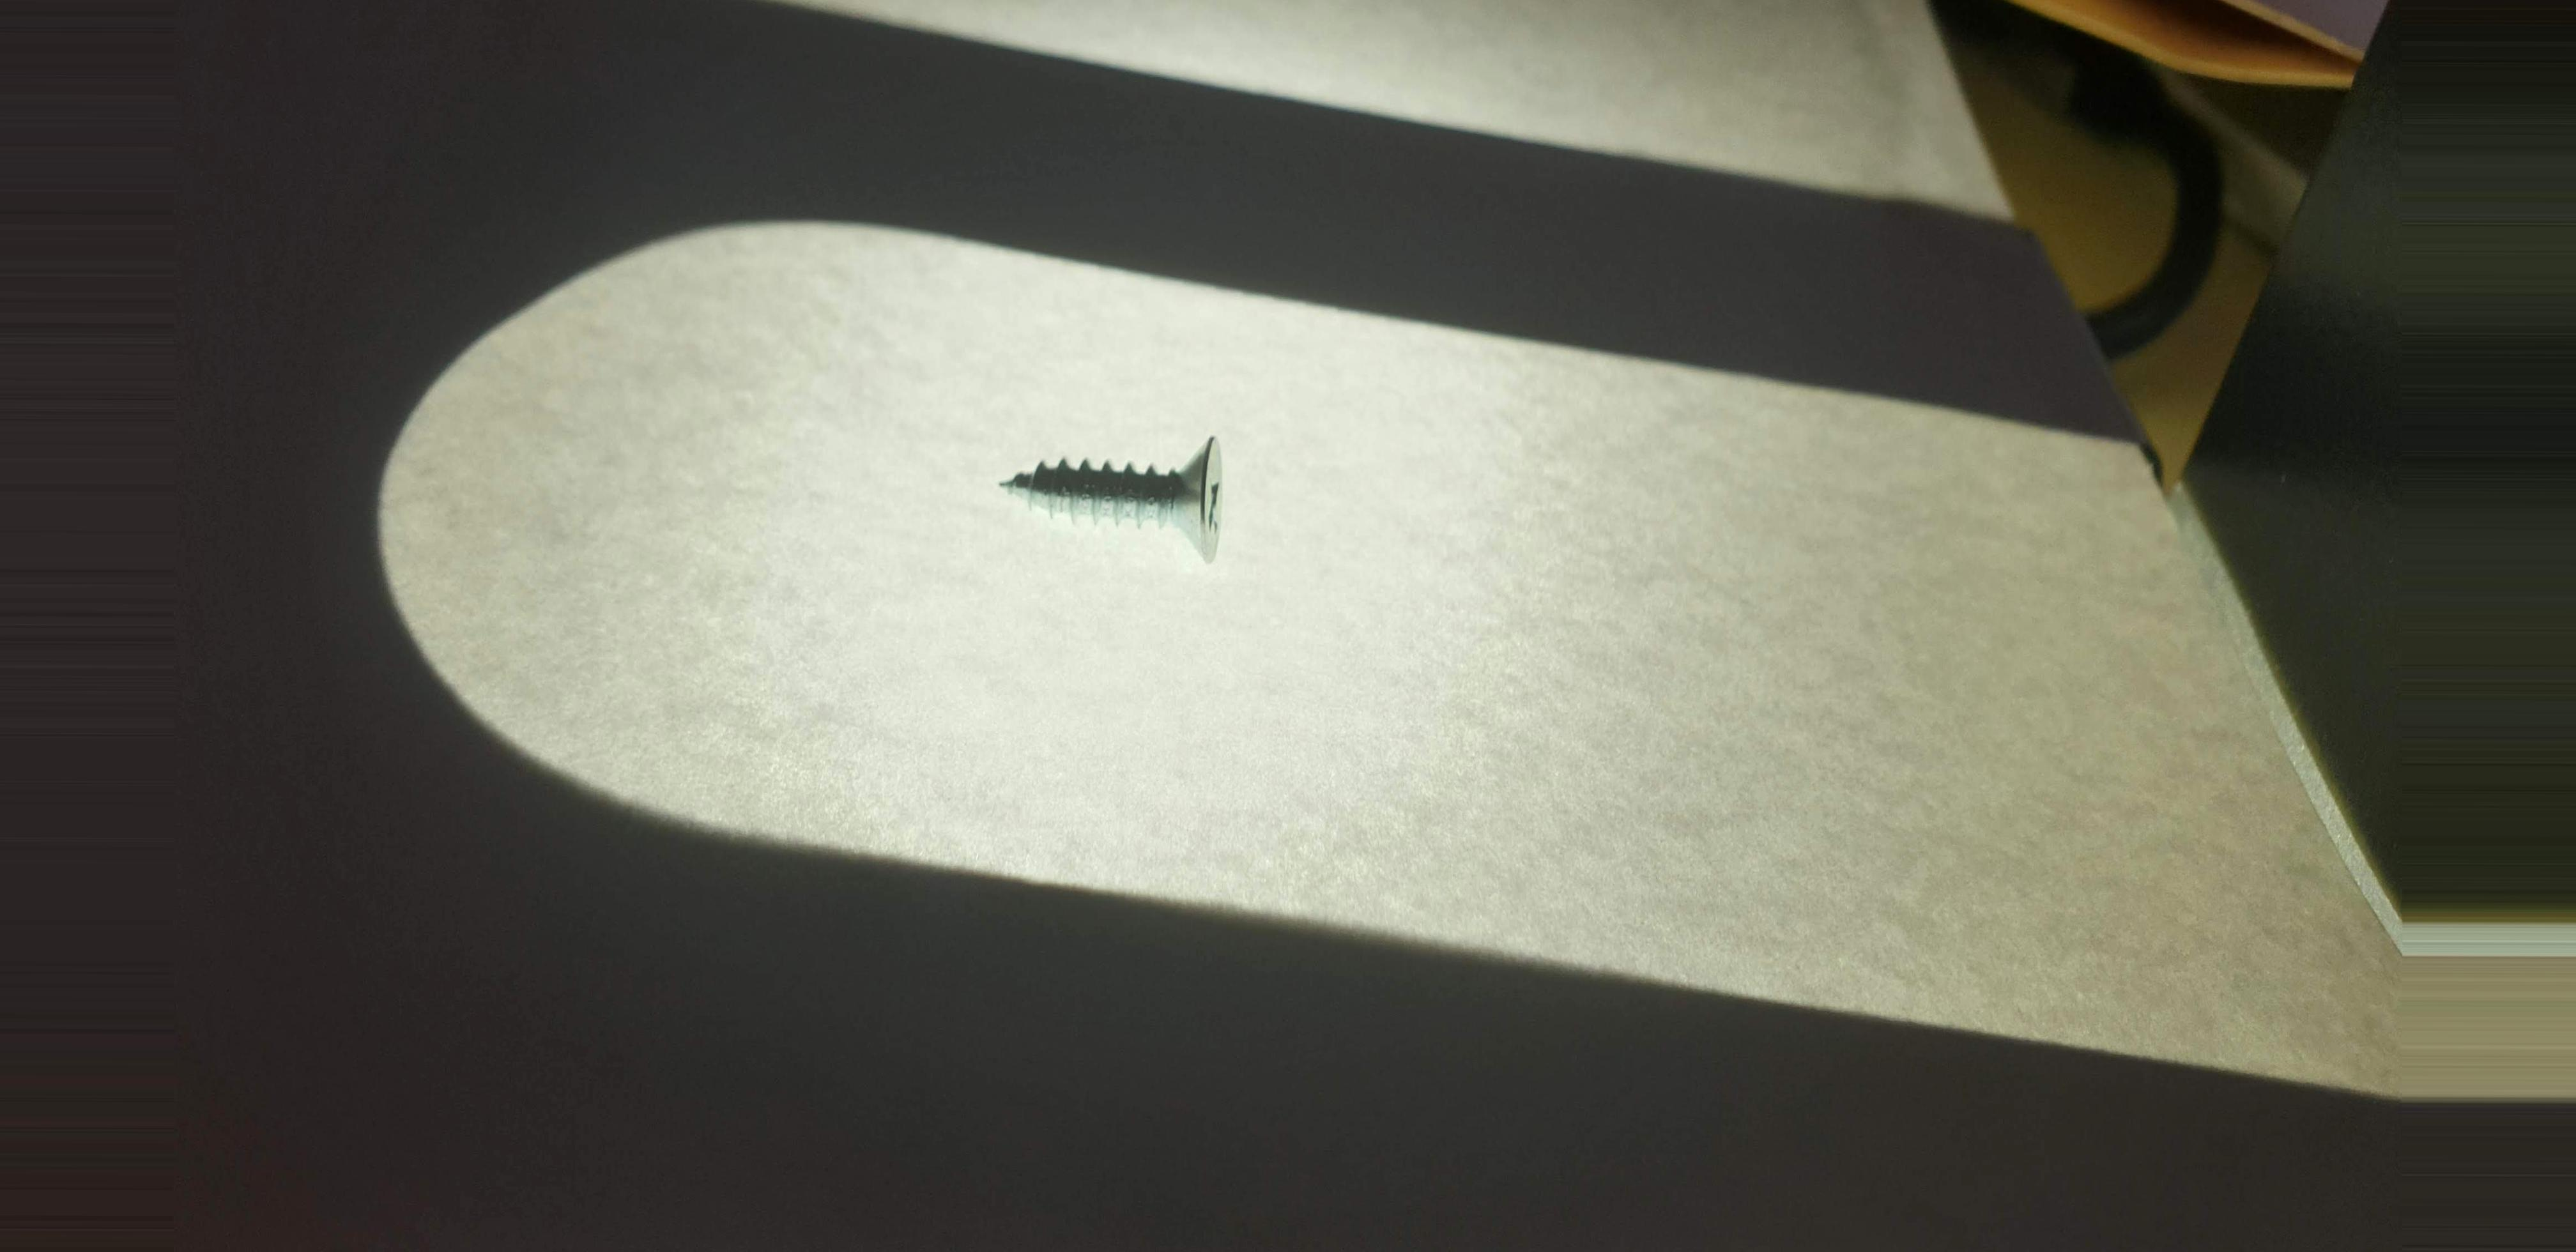S003: (979, 426, 1275, 582)
